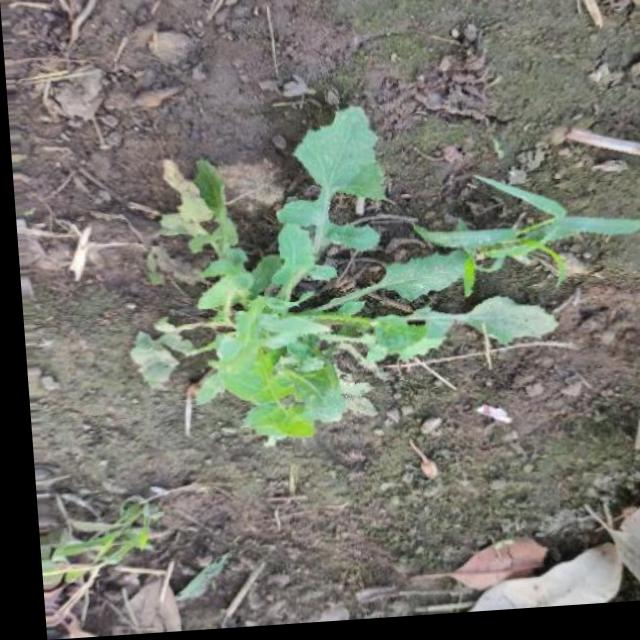weed: (126, 94, 640, 468)
